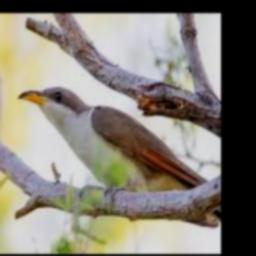Cuckoo: (19, 88, 210, 203)
